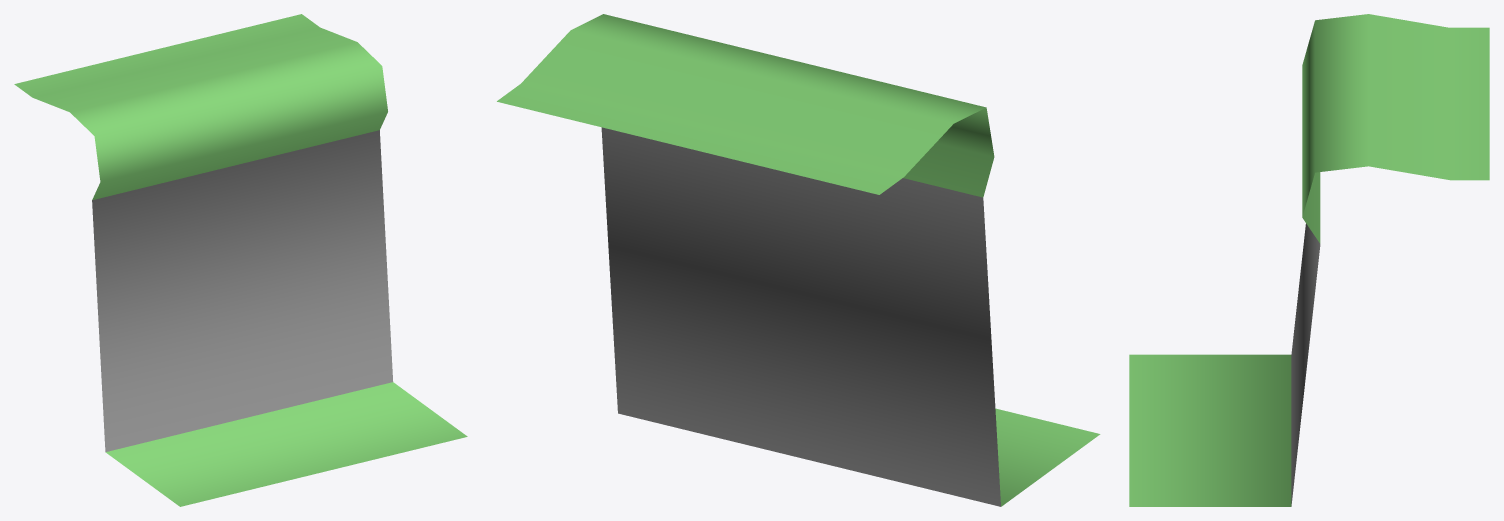
File: tile_fill_cliff.fbx
3 renders of one model, left to right at view 1: azimuth 30°, elevation 25°; view 2: azimuth 150°, elevation 25°; view 3: azimuth 270°, elevation 25°, orthographic. The views are drawn at different scales.
Parts seen in each view (by area): view 1: tile_fill_cliff; view 2: tile_fill_cliff; view 3: tile_fill_cliff.
Boxes of the visible parts, bbox=[...] form: tile_fill_cliff: bbox=[14, 14, 467, 506]; tile_fill_cliff: bbox=[497, 14, 1100, 506]; tile_fill_cliff: bbox=[1129, 14, 1489, 506].
Bounding box in the file's own units: 2 × 2.08 × 2.
